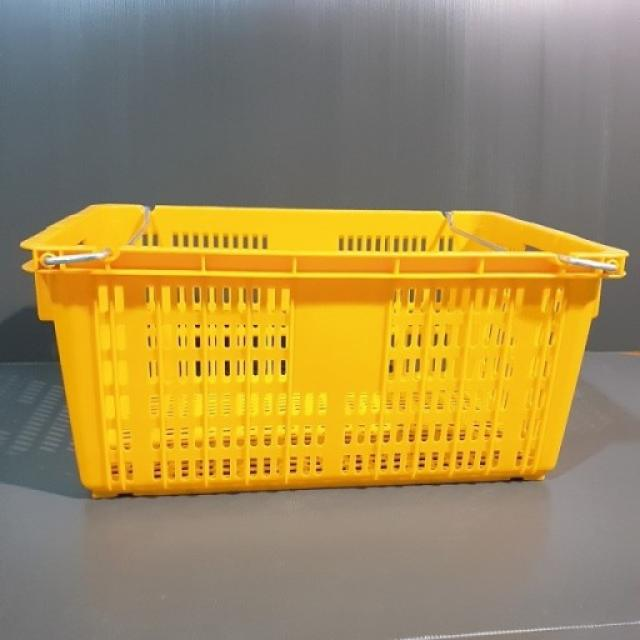basket: (18, 205, 629, 505)
